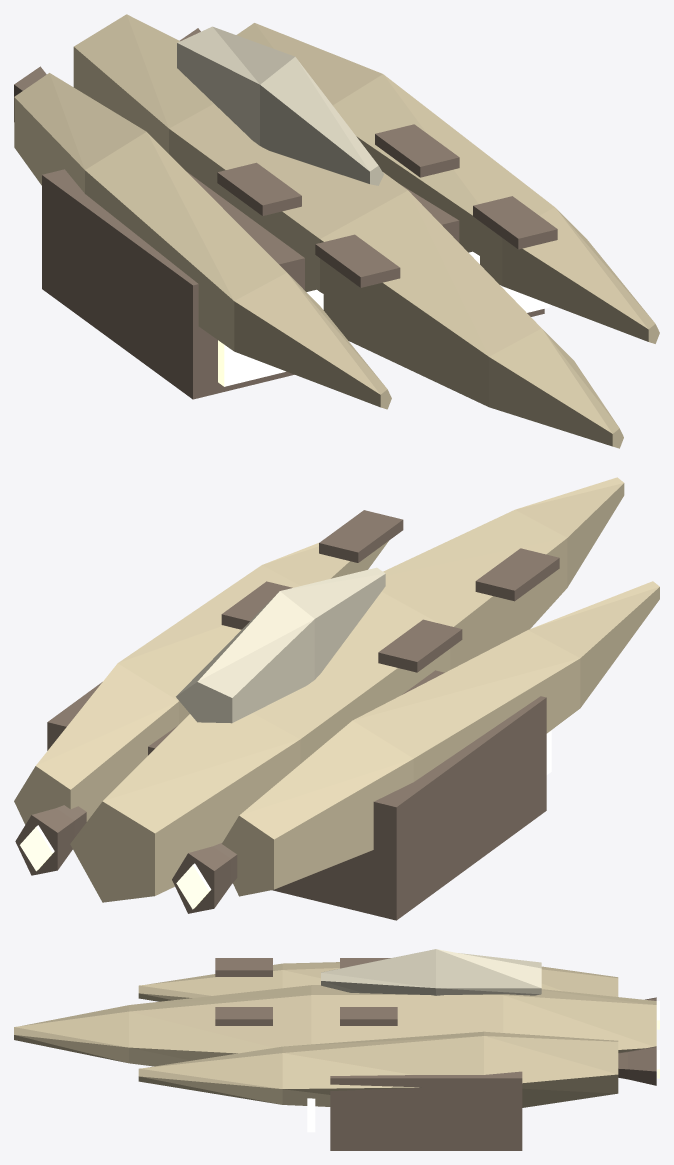
3 views of the same model, one above another, from view 1: azimuth 30°, elevation 25°; view 2: azimuth 150°, elevation 25°; view 3: azimuth 270°, elevation 25° (orthographic). The views are drawn at different scales.
Size of the model in its own units: 6.55 by 4.15 by 16.15.
